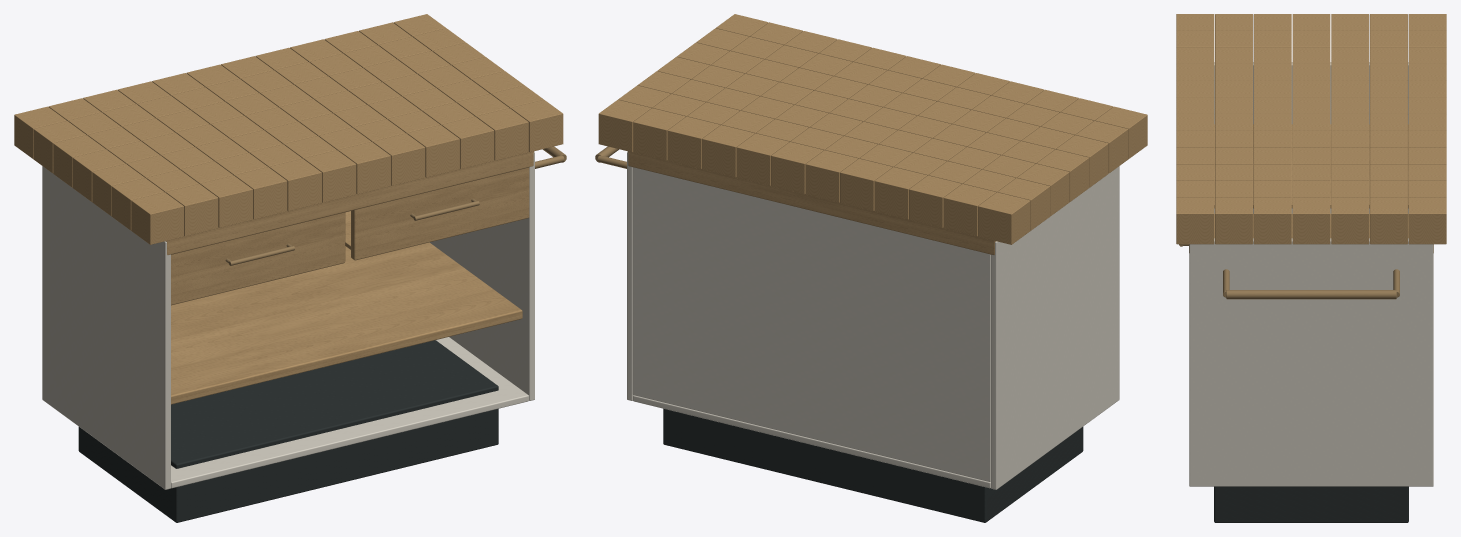
The picture shows the model from 3 angles, left to right: view 1: azimuth 30°, elevation 25°; view 2: azimuth 150°, elevation 25°; view 3: azimuth 270°, elevation 25°; orthographic projection.
Parts seen in each view (by area): view 1: Island lowered plinth, Open cookware shelf, Kitchen island carcass side, Kitchen island carcass side.001, Utensil drawer front.001, Utensil drawer front, Kitchen island carcass deck, Worktop skirt, Individual end-grain butcher block, Individual end-grain butcher block.035, Individual end-grain butcher block.021, Individual end-grain butcher block.028 (+80 smaller); view 2: Kitchen island carcass back, Kitchen island carcass side, Island lowered plinth, Worktop skirt.001, Kitchen island carcass deck, Individual end-grain butcher block.006, Individual end-grain butcher block.041, Individual end-grain butcher block.027, Individual end-grain butcher block.034, Individual end-grain butcher block.048, Individual end-grain butcher block.055, Individual end-grain butcher block.076 (+78 smaller); view 3: Kitchen island carcass side.001, Island lowered plinth, Individual end-grain butcher block.079, Individual end-grain butcher block.081, Individual end-grain butcher block.077, Individual end-grain butcher block.083, Individual end-grain butcher block.080, Individual end-grain butcher block.078, Individual end-grain butcher block.082, Side towel bar, Individual end-grain butcher block.009, Individual end-grain butcher block.011 (+77 smaller).
Boxes of the visible parts, bbox=[...] form: Island lowered plinth: bbox=[78, 340, 498, 522]; Open cookware shelf: bbox=[171, 242, 522, 404]; Kitchen island carcass side: bbox=[42, 166, 170, 489]; Kitchen island carcass side.001: bbox=[430, 151, 534, 400]; Utensil drawer front.001: bbox=[351, 167, 529, 260]; Utensil drawer front: bbox=[171, 212, 345, 305]; Kitchen island carcass deck: bbox=[171, 337, 528, 488]; Worktop skirt: bbox=[166, 151, 533, 254]; Individual end-grain butcher block: bbox=[131, 192, 183, 244]; Individual end-grain butcher block.035: bbox=[303, 150, 356, 202]; Individual end-grain butcher block.021: bbox=[234, 167, 287, 219]; Individual end-grain butcher block.028: bbox=[269, 158, 321, 211]; Kitchen island carcass back: bbox=[632, 167, 990, 482]; Kitchen island carcass side: bbox=[991, 166, 1119, 489]; Island lowered plinth: bbox=[663, 408, 1083, 522]; Worktop skirt.001: bbox=[628, 151, 995, 254]; Kitchen island carcass deck: bbox=[633, 395, 990, 488]; Individual end-grain butcher block.006: bbox=[978, 192, 1030, 244]; Individual end-grain butcher block.041: bbox=[805, 150, 858, 202]; Individual end-grain butcher block.027: bbox=[874, 167, 927, 219]; Individual end-grain butcher block.034: bbox=[840, 158, 892, 211]; Individual end-grain butcher block.048: bbox=[771, 142, 823, 194]; Individual end-grain butcher block.055: bbox=[736, 133, 788, 185]; Individual end-grain butcher block.076: bbox=[633, 108, 685, 160]; Kitchen island carcass side.001: bbox=[1189, 238, 1433, 486]; Island lowered plinth: bbox=[1214, 486, 1408, 522]; Individual end-grain butcher block.079: bbox=[1253, 197, 1291, 244]; Individual end-grain butcher block.081: bbox=[1331, 197, 1369, 244]; Individual end-grain butcher block.077: bbox=[1176, 197, 1214, 244]; Individual end-grain butcher block.083: bbox=[1408, 197, 1446, 244]; Individual end-grain butcher block.080: bbox=[1292, 197, 1330, 244]; Individual end-grain butcher block.078: bbox=[1215, 197, 1252, 244]; Individual end-grain butcher block.082: bbox=[1370, 197, 1407, 244]; Side towel bar: bbox=[1226, 290, 1396, 299]; Individual end-grain butcher block.009: bbox=[1253, 30, 1291, 47]; Individual end-grain butcher block.011: bbox=[1331, 30, 1369, 47].
Bounding box in the file's own units: 1.31 × 0.945 × 0.698.
5 materials, 5 textured.
